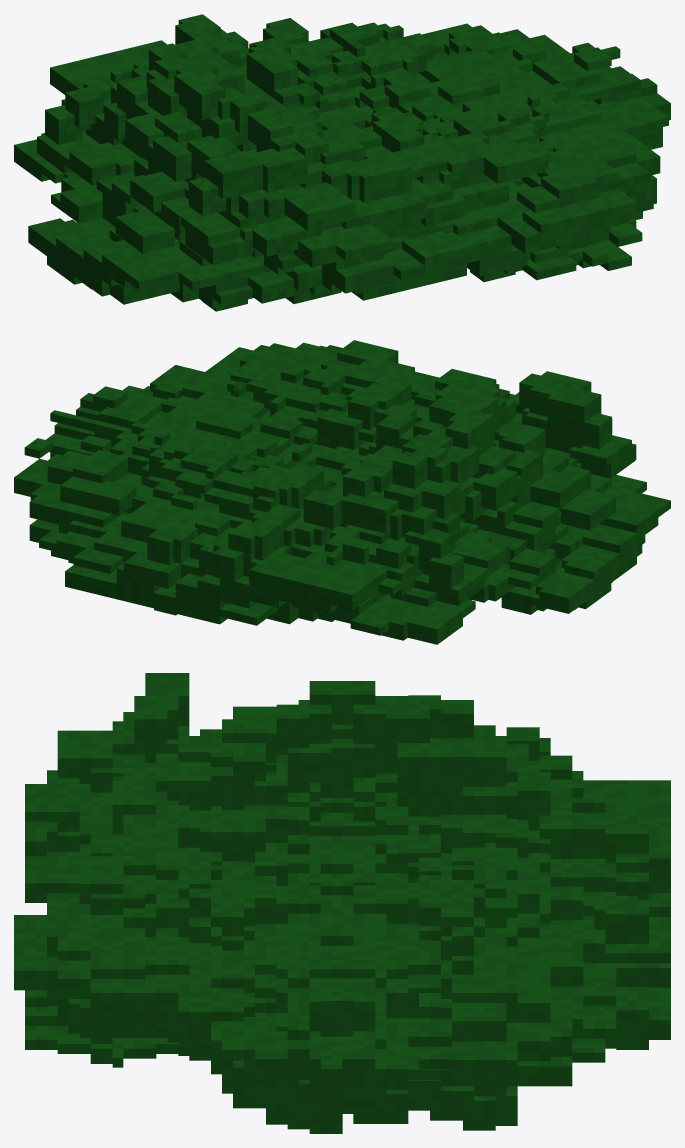
File: start_end-41.obj
The picture shows the model from 3 angles, top to bottom: view 1: azimuth 30°, elevation 25°; view 2: azimuth 150°, elevation 25°; view 3: azimuth 270°, elevation 25°; orthographic projection. The views are drawn at different scales.
Bounding box in the file's own units: 7.2 × 2.7 × 6.
1 material, 1 textured.
